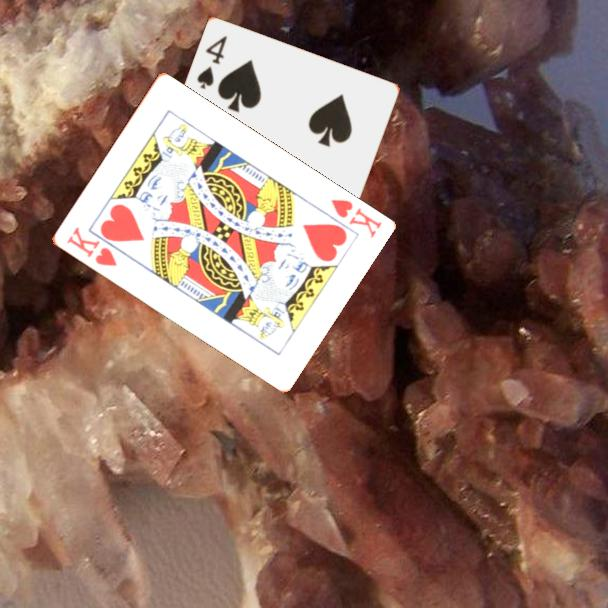h13: (63, 223, 120, 269), (326, 196, 384, 241)
s04: (194, 32, 230, 93)
